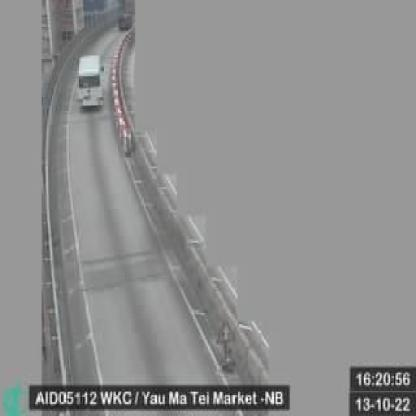Truck: (76, 53, 105, 112)
